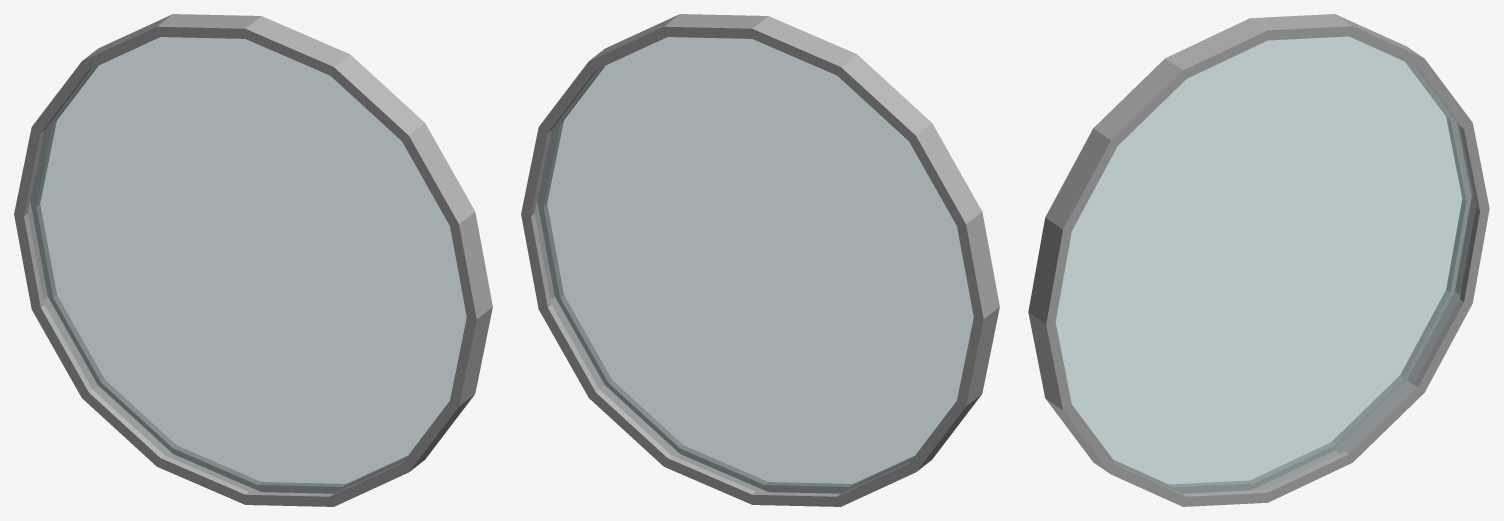
File: Cristal.fbx
3 views of the same model, side by side, from view 1: azimuth 30°, elevation 25°; view 2: azimuth 210°, elevation 25°; view 3: azimuth 270°, elevation 25° (orthographic).
Parts seen in each view (by area): view 1: Circle.004, Circle.001; view 2: Circle.004, Circle.001; view 3: Circle.004, Circle.001.
Part boxes in pixels (x1,y1,x2,y2): Circle.004: [28, 37, 466, 493]; Circle.001: [14, 14, 492, 506]; Circle.004: [535, 37, 973, 493]; Circle.001: [521, 14, 999, 506]; Circle.004: [1055, 36, 1475, 493]; Circle.001: [1028, 14, 1489, 506].
Size of the model in its own units: 70.94 by 122 by 108.
